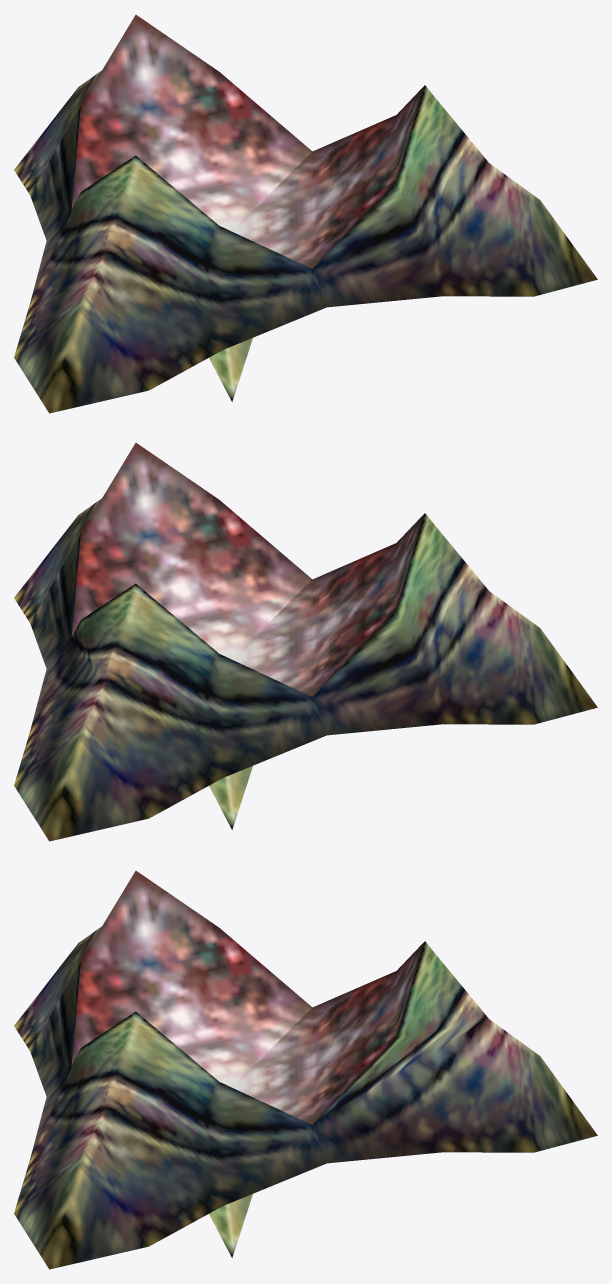
File: C_Tree03e.glb
The picture shows the model from 3 angles, top to bottom: view 1: azimuth 30°, elevation 25°; view 2: azimuth 150°, elevation 25°; view 3: azimuth 270°, elevation 25°; orthographic projection.
Parts seen in each view (by area): view 1: C_Tree03e-col; view 2: C_Tree03e-col; view 3: C_Tree03e-col.
Part boxes in pixels (x1,y1,x2,y2): C_Tree03e-col: (14,14,597,413); C_Tree03e-col: (14,442,597,841); C_Tree03e-col: (14,870,597,1269).
Bounding box in the file's own units: 0.3988 × 0.2204 × 0.3676.
Materials: 2 (2 with a texture image).
